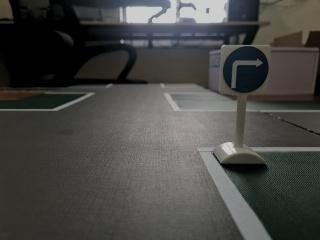right: (219, 41, 271, 99)
